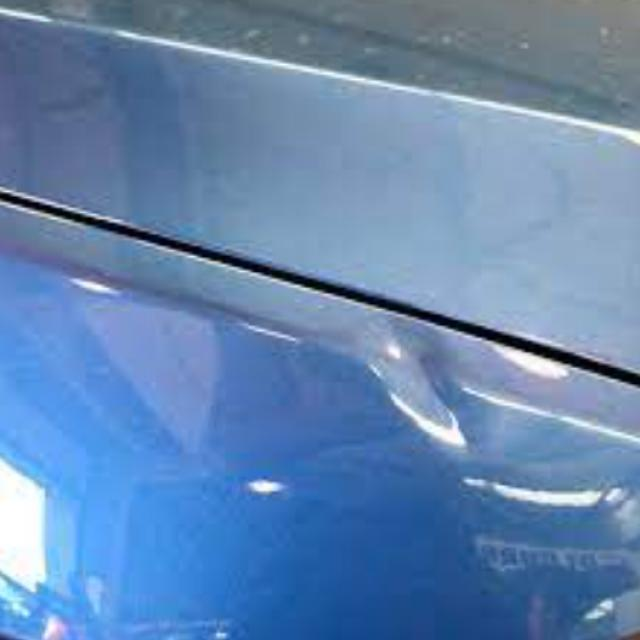dents: (341, 312, 491, 466)
